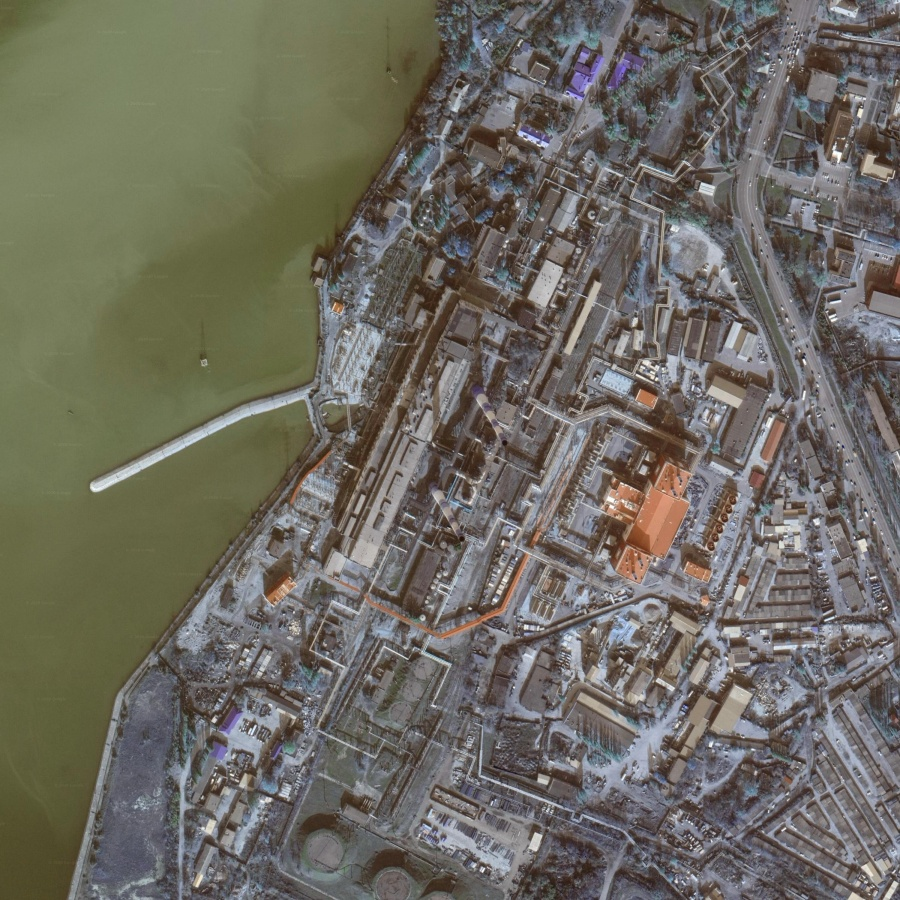PowerPlant: (296, 235, 569, 644)
